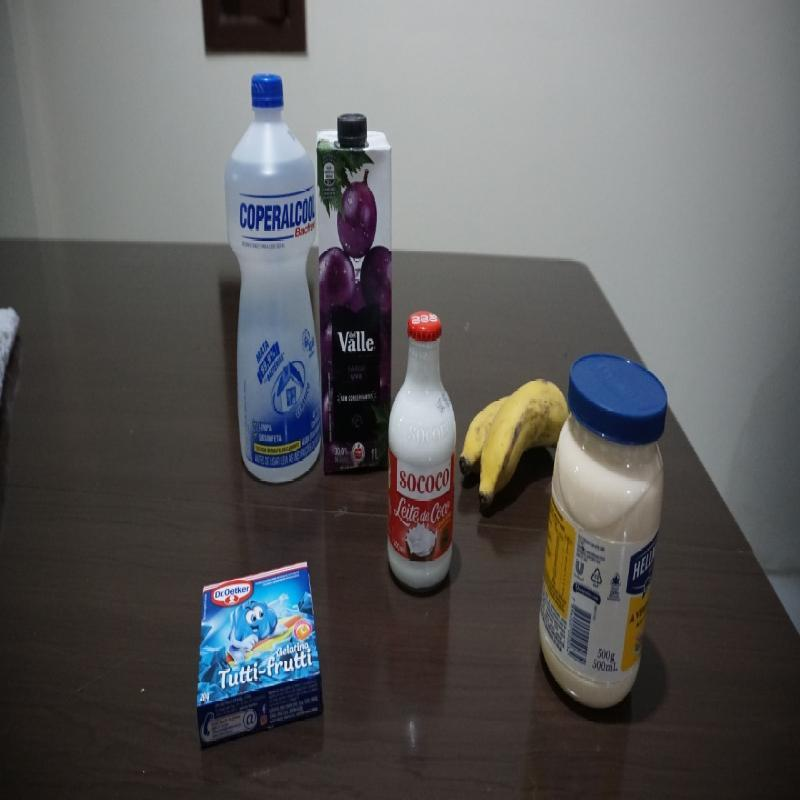Alcohol Bottle: (228, 71, 318, 486)
Banana: (458, 357, 544, 534)
Coconut Milk: (392, 309, 456, 594)
Gelatine: (197, 561, 324, 753)
Mayonnaise: (546, 360, 672, 709)
